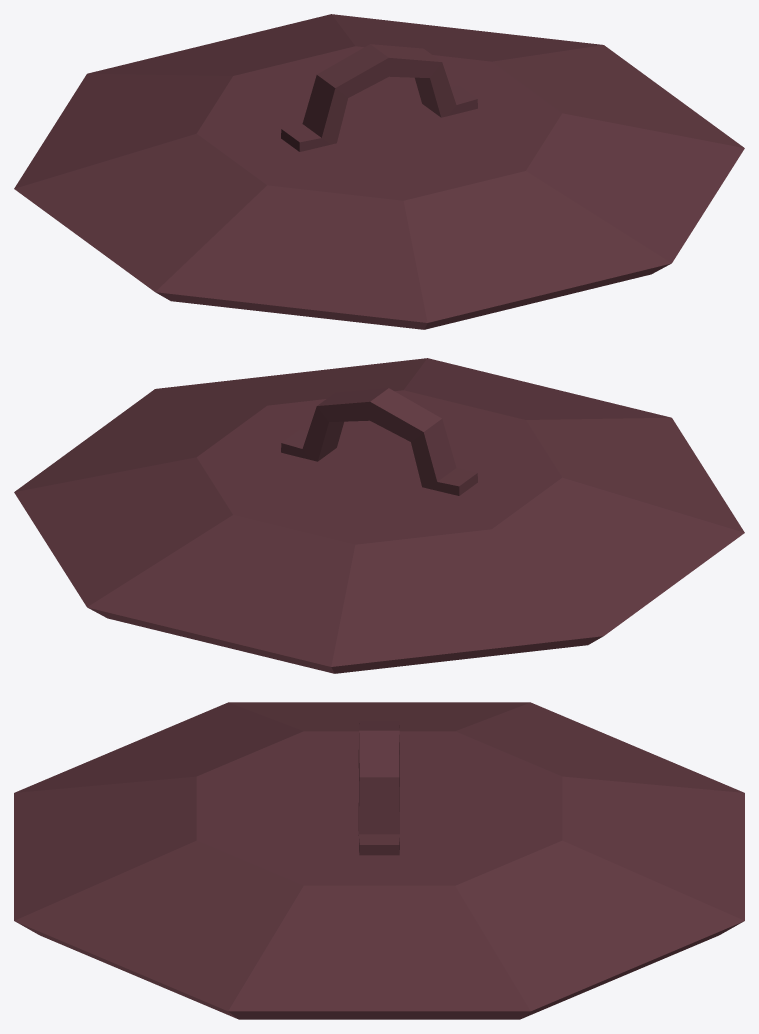
Rendered from dishes-lid-big.glb.
The picture shows the model from 3 angles, top to bottom: view 1: azimuth 30°, elevation 25°; view 2: azimuth 150°, elevation 25°; view 3: azimuth 270°, elevation 25°; orthographic projection. The views are drawn at different scales.
Parts seen in each view (by area): view 1: lid-big; view 2: lid-big; view 3: lid-big.
Part boxes in pixels (left/top/right/bottom): lid-big: left=14, top=14, right=744, bottom=329; lid-big: left=14, top=358, right=744, bottom=673; lid-big: left=14, top=702, right=744, bottom=1019.
Bounding box in the file's own units: 0.263 × 0.0577 × 0.263.
